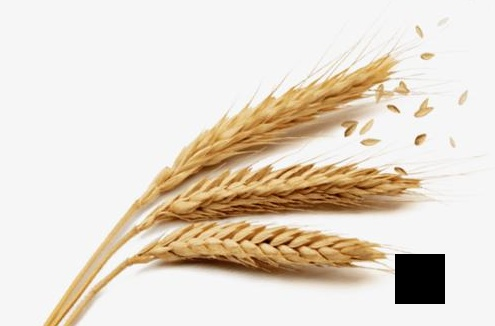wheat: (145, 52, 401, 187), (64, 217, 405, 305), (134, 155, 430, 226)
